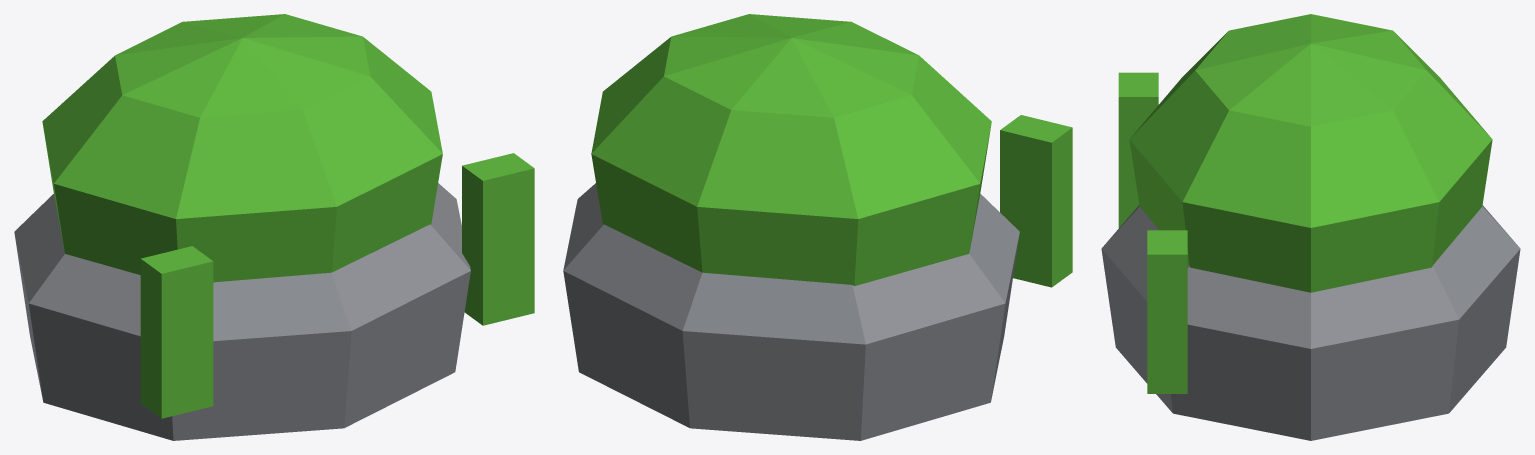
The model's file is env_r11_sludge_rock.glb.
The picture shows the model from 3 angles, left to right: view 1: azimuth 30°, elevation 25°; view 2: azimuth 150°, elevation 25°; view 3: azimuth 270°, elevation 25°; orthographic projection. The views are drawn at different scales.
Visible parts, largest first — view 1: env_r11_sludge_rock; view 2: env_r11_sludge_rock; view 3: env_r11_sludge_rock.
Part boxes in pixels (x1,y1,x2,y2): env_r11_sludge_rock: (14,14,534,440); env_r11_sludge_rock: (563,14,1072,440); env_r11_sludge_rock: (1101,14,1520,440).
Size of the model in its own units: 1.7 by 1.2 by 1.5.
Materials: 1 (1 with a texture image).
